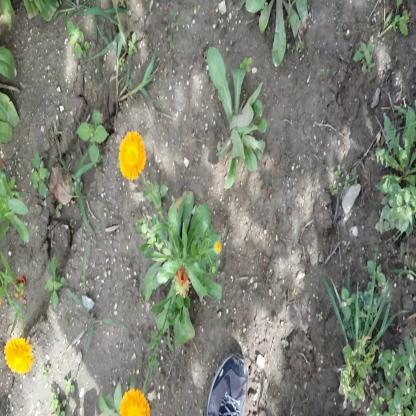marigold: (119, 132, 143, 180), (4, 338, 32, 376), (119, 388, 150, 416), (173, 264, 190, 296)
